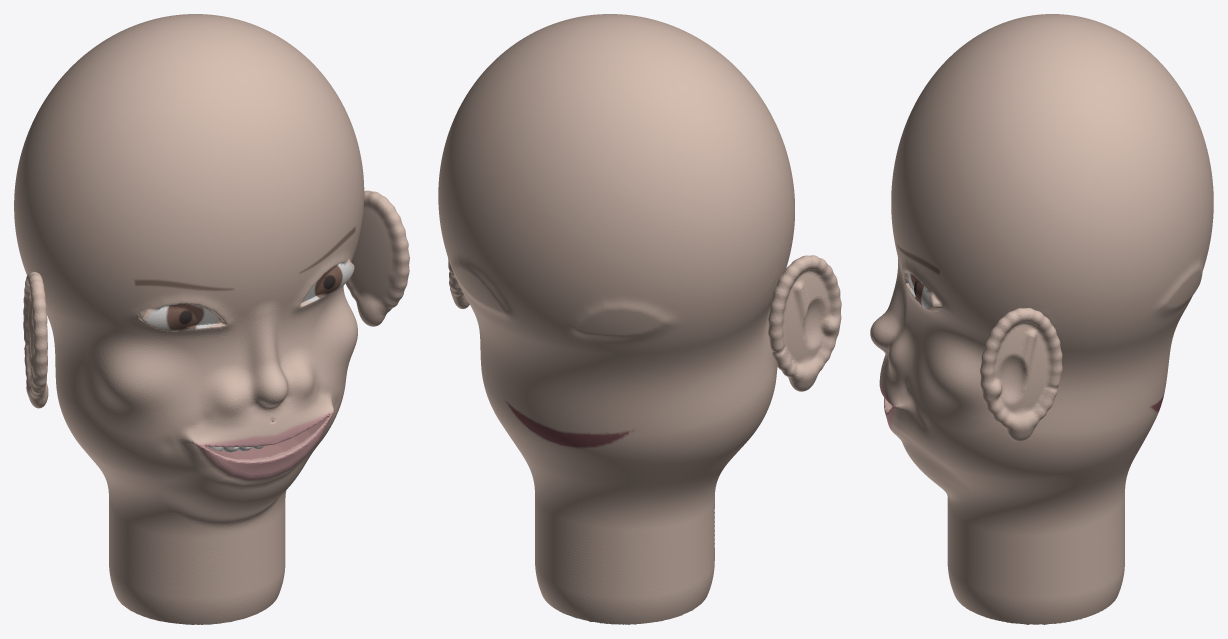
File: karma_face_stage1_T_smile_EXPERIMENT.glb
3 views of the same model, side by side, from view 1: azimuth 30°, elevation 25°; view 2: azimuth 150°, elevation 25°; view 3: azimuth 270°, elevation 25° (orthographic).
Parts seen in each view (by area): view 1: head; view 2: head; view 3: head.
Boxes of the visible parts, x1=… form: head: x1=14, y1=14, x2=409, y2=624; head: x1=438, y1=14, x2=841, y2=624; head: x1=870, y1=14, x2=1213, y2=624.
Size of the model in its own units: 2.7 by 3.83 by 2.13.
